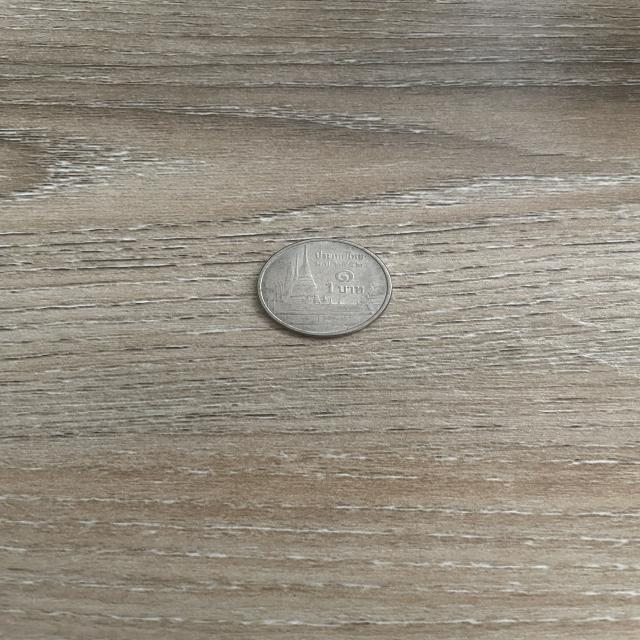1 Bath: (247, 232, 405, 347)
